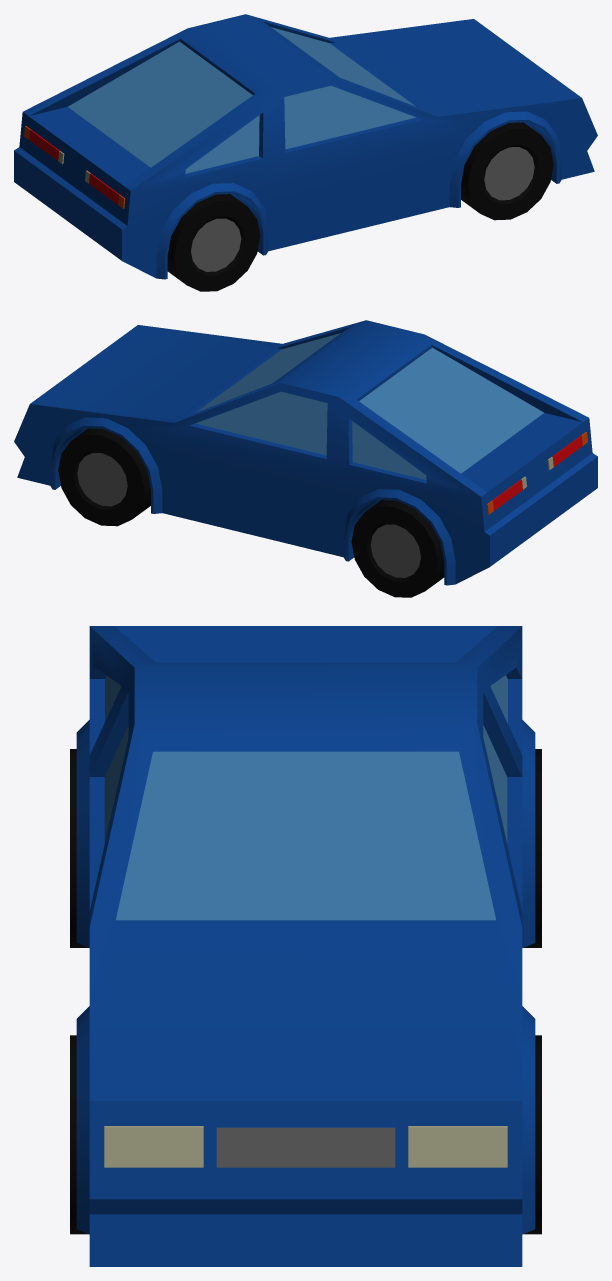
File: car-coupe-blue.obj
The picture shows the model from 3 angles, top to bottom: view 1: azimuth 30°, elevation 25°; view 2: azimuth 150°, elevation 25°; view 3: azimuth 270°, elevation 25°; orthographic projection. The views are drawn at different scales.
Visible parts, largest first — view 1: car-coupe-blue_Cube.580_carmaterial_blue, car-coupe-blue_Cube.580_windows.001, car-coupe-blue_Cube.580_tires, car-coupe-blue_Cube.580_metal, car-coupe-blue_Cube.580_lights.red; view 2: car-coupe-blue_Cube.580_carmaterial_blue, car-coupe-blue_Cube.580_windows.001, car-coupe-blue_Cube.580_tires, car-coupe-blue_Cube.580_metal, car-coupe-blue_Cube.580_lights.red; view 3: car-coupe-blue_Cube.580_carmaterial_blue, car-coupe-blue_Cube.580_windows.001, car-coupe-blue_Cube.580_lights, car-coupe-blue_Cube.580_metal, car-coupe-blue_Cube.580_tires.
Part boxes in pixels (bbox=[...]): car-coupe-blue_Cube.580_carmaterial_blue: bbox=[14, 14, 597, 279]; car-coupe-blue_Cube.580_windows.001: bbox=[68, 27, 416, 173]; car-coupe-blue_Cube.580_tires: bbox=[167, 122, 553, 291]; car-coupe-blue_Cube.580_metal: bbox=[191, 147, 534, 271]; car-coupe-blue_Cube.580_lights.red: bbox=[29, 129, 119, 204]; car-coupe-blue_Cube.580_carmaterial_blue: bbox=[14, 320, 597, 585]; car-coupe-blue_Cube.580_windows.001: bbox=[195, 333, 543, 479]; car-coupe-blue_Cube.580_tires: bbox=[58, 428, 444, 597]; car-coupe-blue_Cube.580_metal: bbox=[77, 453, 420, 577]; car-coupe-blue_Cube.580_lights.red: bbox=[492, 435, 582, 510]; car-coupe-blue_Cube.580_carmaterial_blue: bbox=[76, 626, 535, 1266]; car-coupe-blue_Cube.580_windows.001: bbox=[104, 675, 507, 920]; car-coupe-blue_Cube.580_lights: bbox=[104, 1126, 507, 1167]; car-coupe-blue_Cube.580_metal: bbox=[216, 1127, 395, 1167]; car-coupe-blue_Cube.580_tires: bbox=[70, 749, 541, 1234].
Size of the model in its own units: 19.87 by 6.81 by 8.54.
